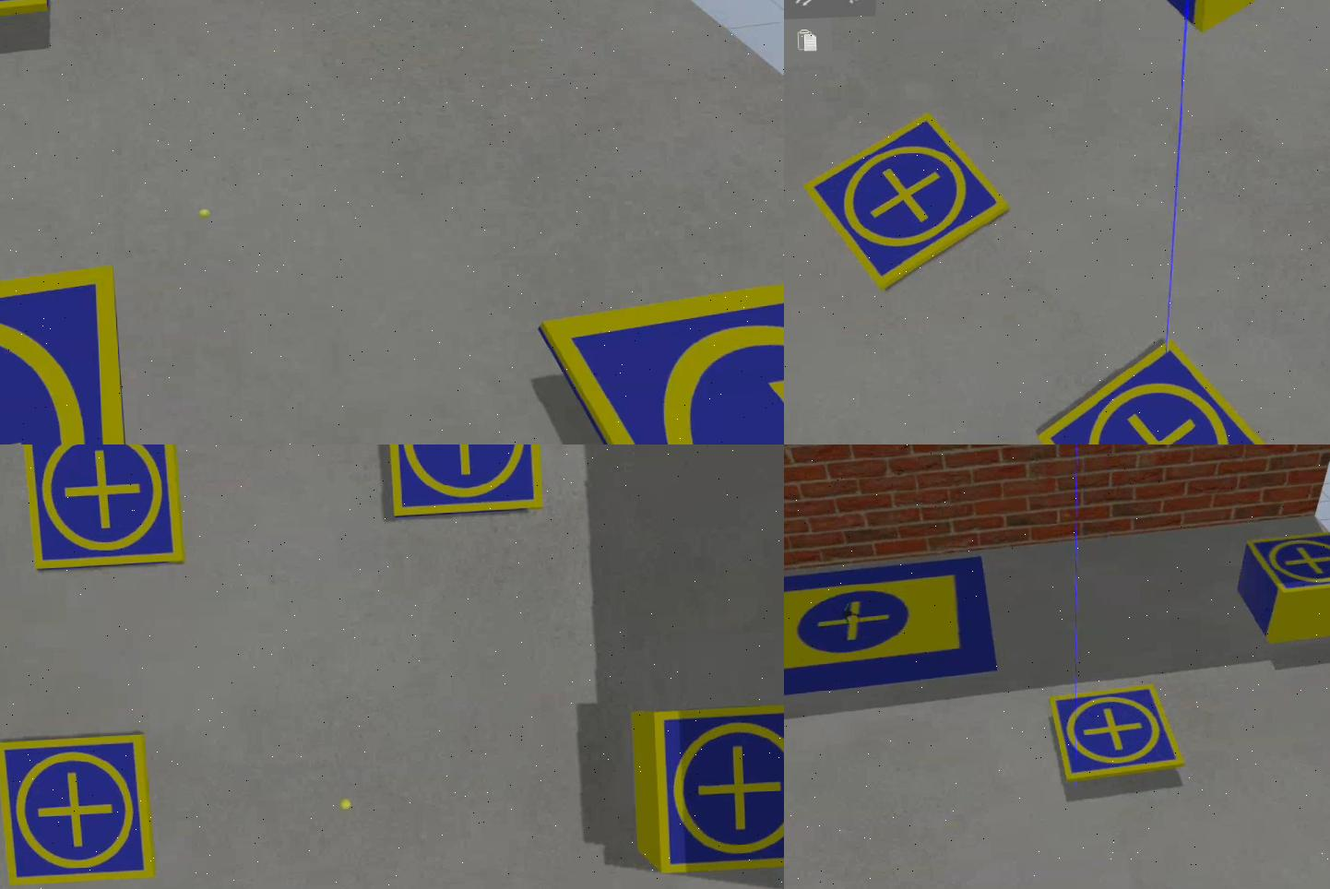large_base: (785, 561, 1002, 705)
small_base: (538, 272, 785, 445), (805, 113, 1015, 292), (1035, 337, 1288, 445), (1, 730, 162, 889), (648, 702, 785, 878), (1, 262, 129, 445), (18, 445, 188, 571), (1056, 691, 1187, 788), (388, 445, 543, 516), (1247, 532, 1330, 602)
